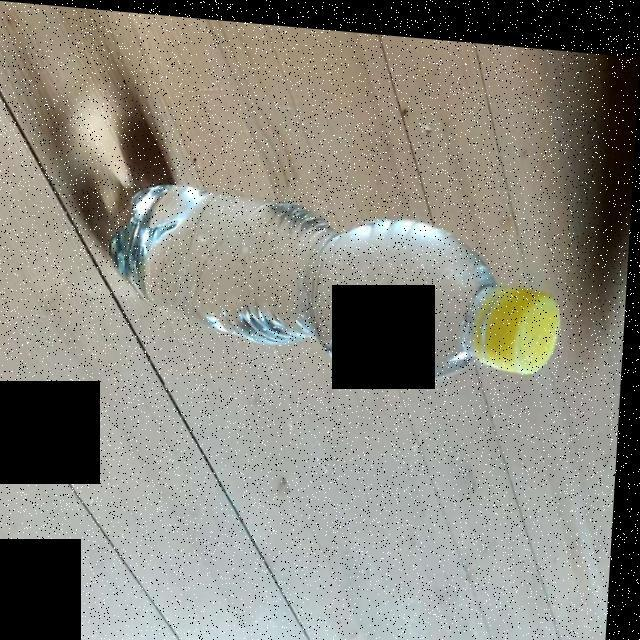water: (139, 171, 485, 365)
